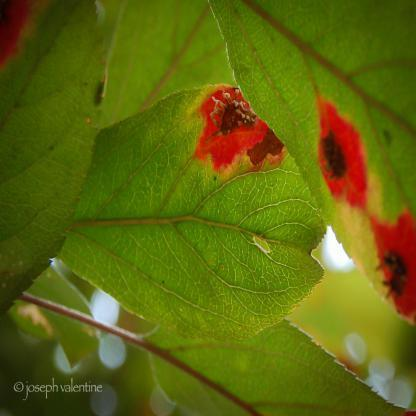Apple rust leaf: (68, 84, 340, 354)
